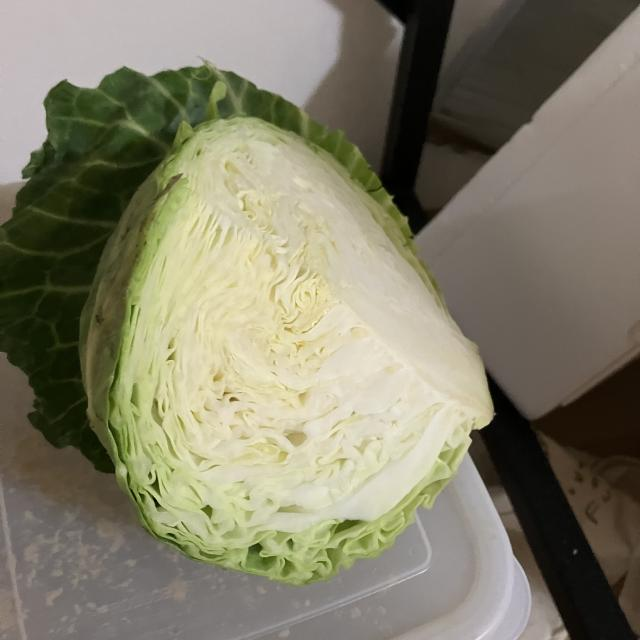haft-cabbage: (0, 57, 497, 589)
